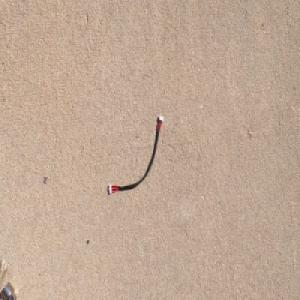Wire: (108, 113, 164, 196)
